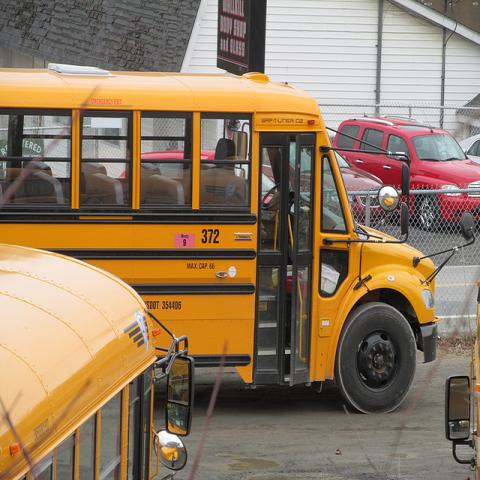bus: (2, 70, 442, 414), (1, 240, 196, 474)
car: (332, 114, 480, 231), (262, 144, 392, 226), (459, 133, 479, 164)
